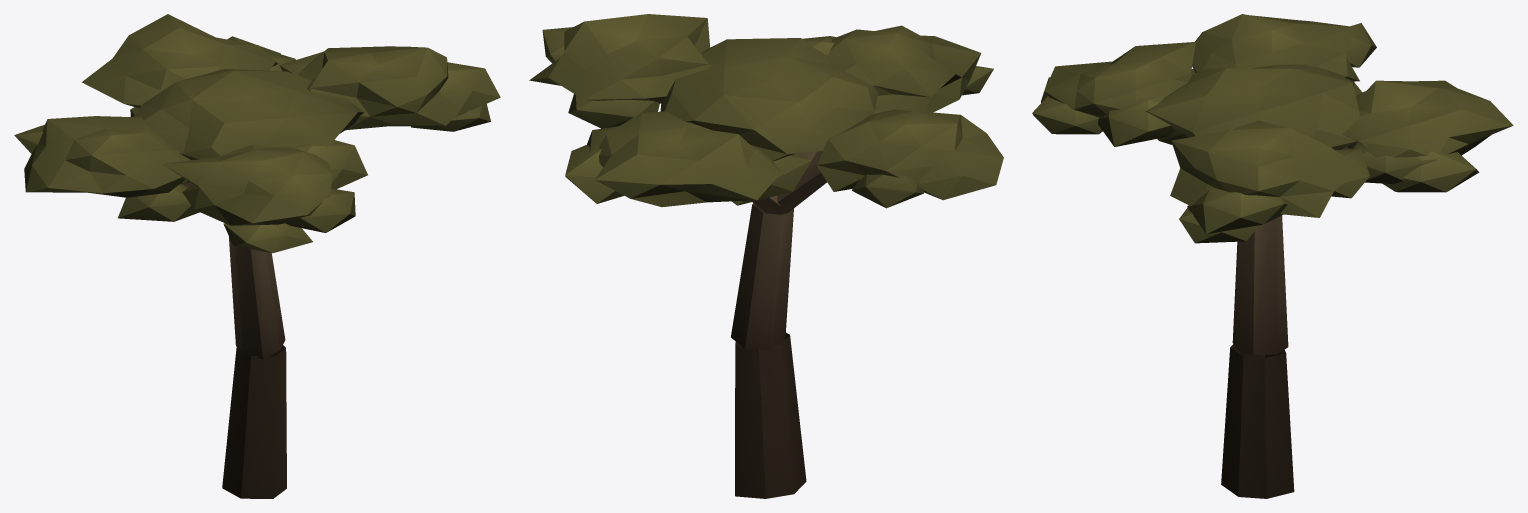
The model's file is baum_trocken2.glb.
The picture shows the model from 3 angles, left to right: view 1: azimuth 30°, elevation 25°; view 2: azimuth 150°, elevation 25°; view 3: azimuth 270°, elevation 25°; orthographic projection. The views are drawn at different scales.
Parts seen in each view (by area): view 1: baum_trocken2; view 2: baum_trocken2; view 3: baum_trocken2.
Boxes of the visible parts, left/top/right/bottom form: baum_trocken2: left=14, top=14, right=500, bottom=498; baum_trocken2: left=529, top=14, right=1003, bottom=498; baum_trocken2: left=1032, top=14, right=1513, bottom=498.
Size of the model in its own units: 5.14 by 4.39 by 4.73.
